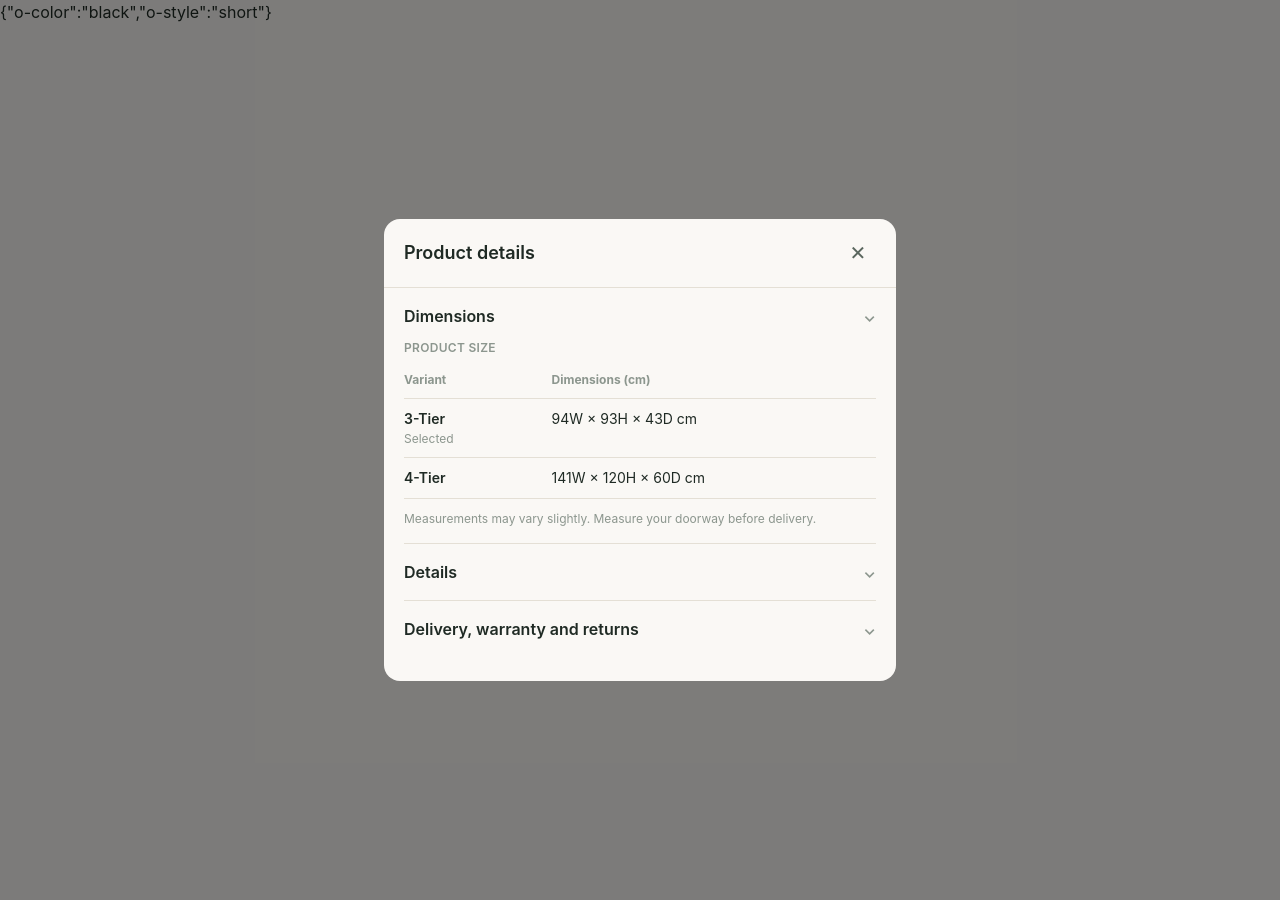
Test case: ProductDetailsModal › omits entirely missing material and weight fields without placeholder headings
Click the heading "Details ⌄". click: (431, 572)
box: [404,560,876,584]
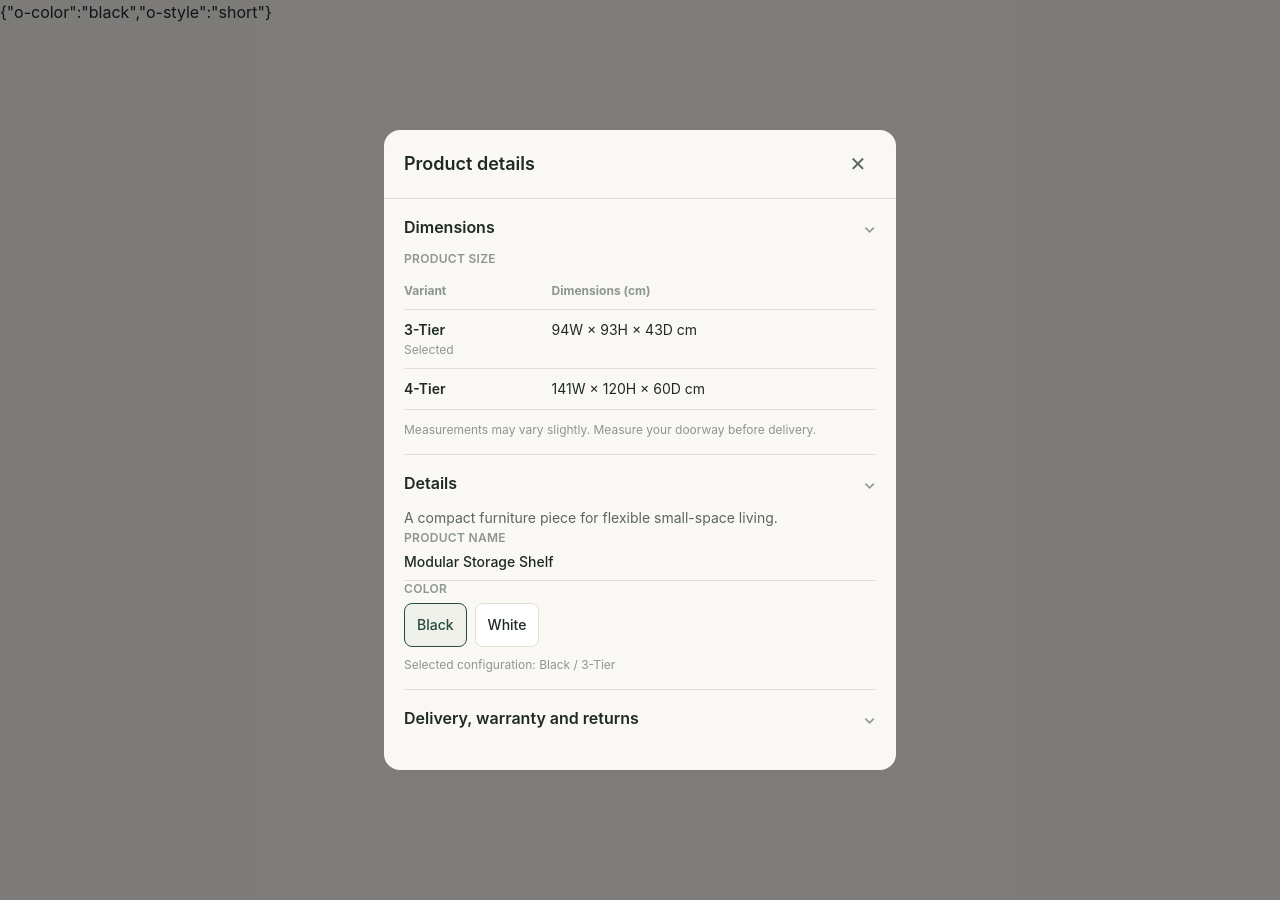
Result: the element showing "Modular Storage Shelf" is shown at [404,552,876,581]
